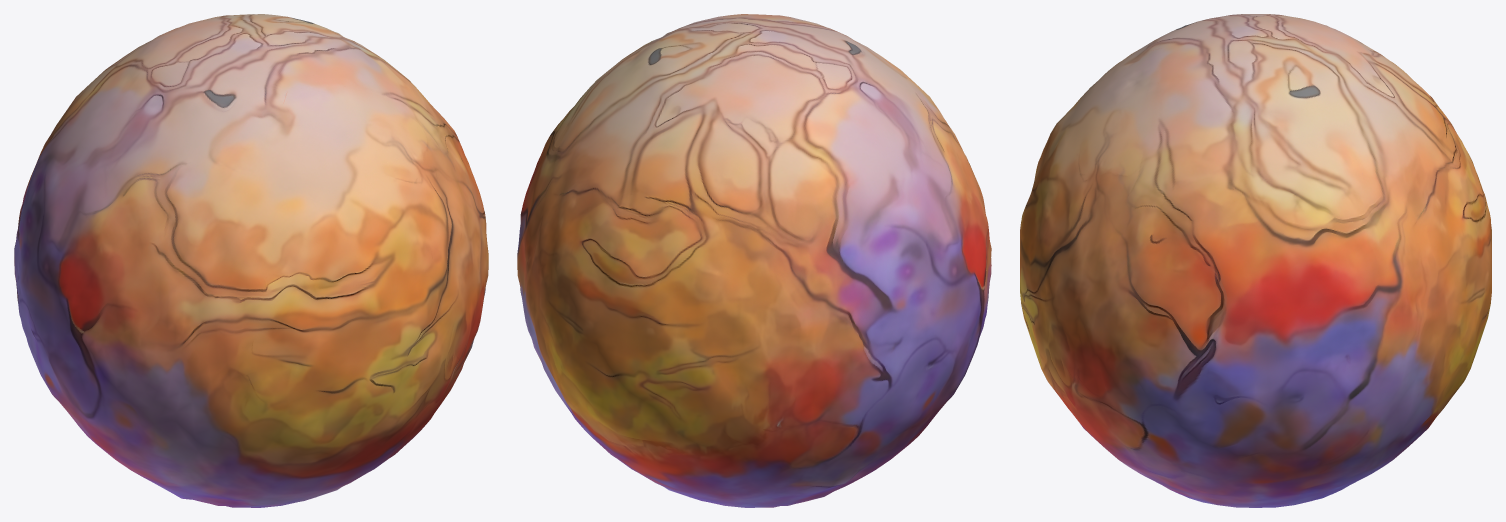
File: Sun.glb
The picture shows the model from 3 angles, left to right: view 1: azimuth 30°, elevation 25°; view 2: azimuth 150°, elevation 25°; view 3: azimuth 270°, elevation 25°; orthographic projection.
Visible parts, largest first — view 1: Mesh_0.001; view 2: Mesh_0.001; view 3: Mesh_0.001.
Boxes of the visible parts, <box> form: Mesh_0.001: <box>14,14,488,507</box>; Mesh_0.001: <box>517,14,991,507</box>; Mesh_0.001: <box>1020,14,1491,507</box>.
Size of the model in its own units: 9.51 by 10 by 9.51.
Materials: 1 (1 with a texture image).
